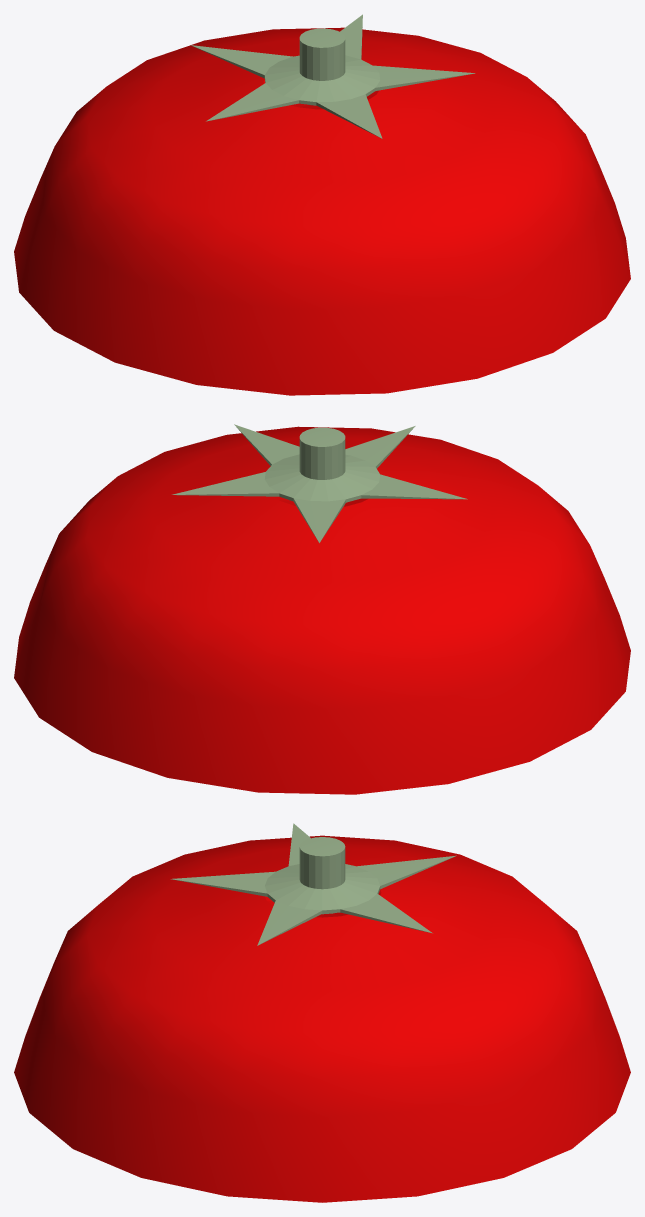
The model's file is tomato_top.fbx.
3 views of the same model, one above another, from view 1: azimuth 30°, elevation 25°; view 2: azimuth 150°, elevation 25°; view 3: azimuth 270°, elevation 25° (orthographic).
Visible parts, largest first — view 1: pasted__polySurface2; view 2: pasted__polySurface2; view 3: pasted__polySurface2.
Boxes of the visible parts, bbox=[...] form: pasted__polySurface2: bbox=[14, 14, 630, 395]; pasted__polySurface2: bbox=[14, 424, 630, 794]; pasted__polySurface2: bbox=[14, 823, 630, 1202].
Size of the model in its own units: 1.64 by 0.6628 by 1.64.
